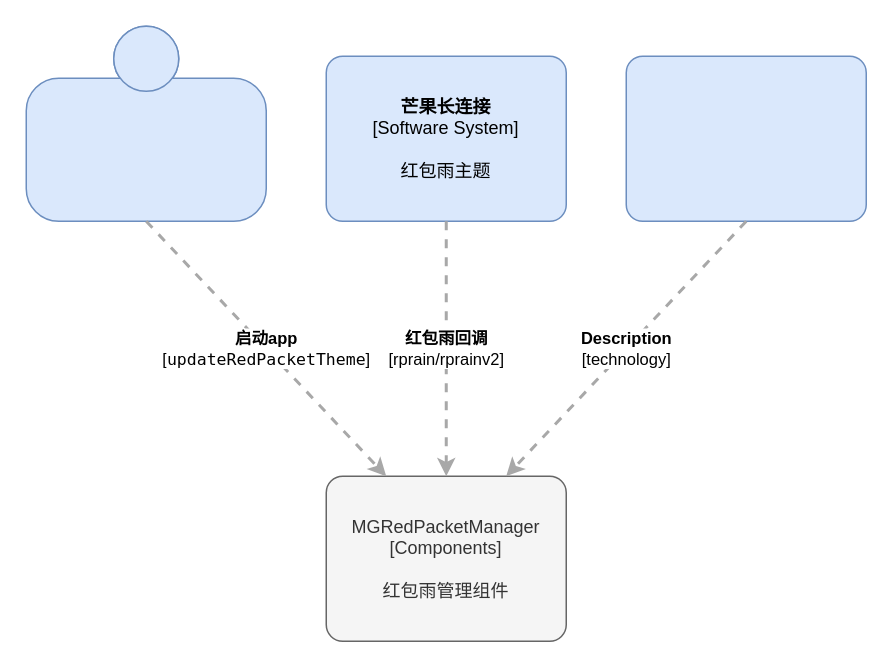
Image size: 893x668. Some labels were removed from this diagram. The shapes that lost their labels are listed below. From the top down, each one's box as (x1, y1, x2, y2) in pixels, then its label:
(25, 25, 266, 221): user [Person] 芒果TV用户
(625, 55, 866, 221): 广告SDK [Software System] 红包雨通知
